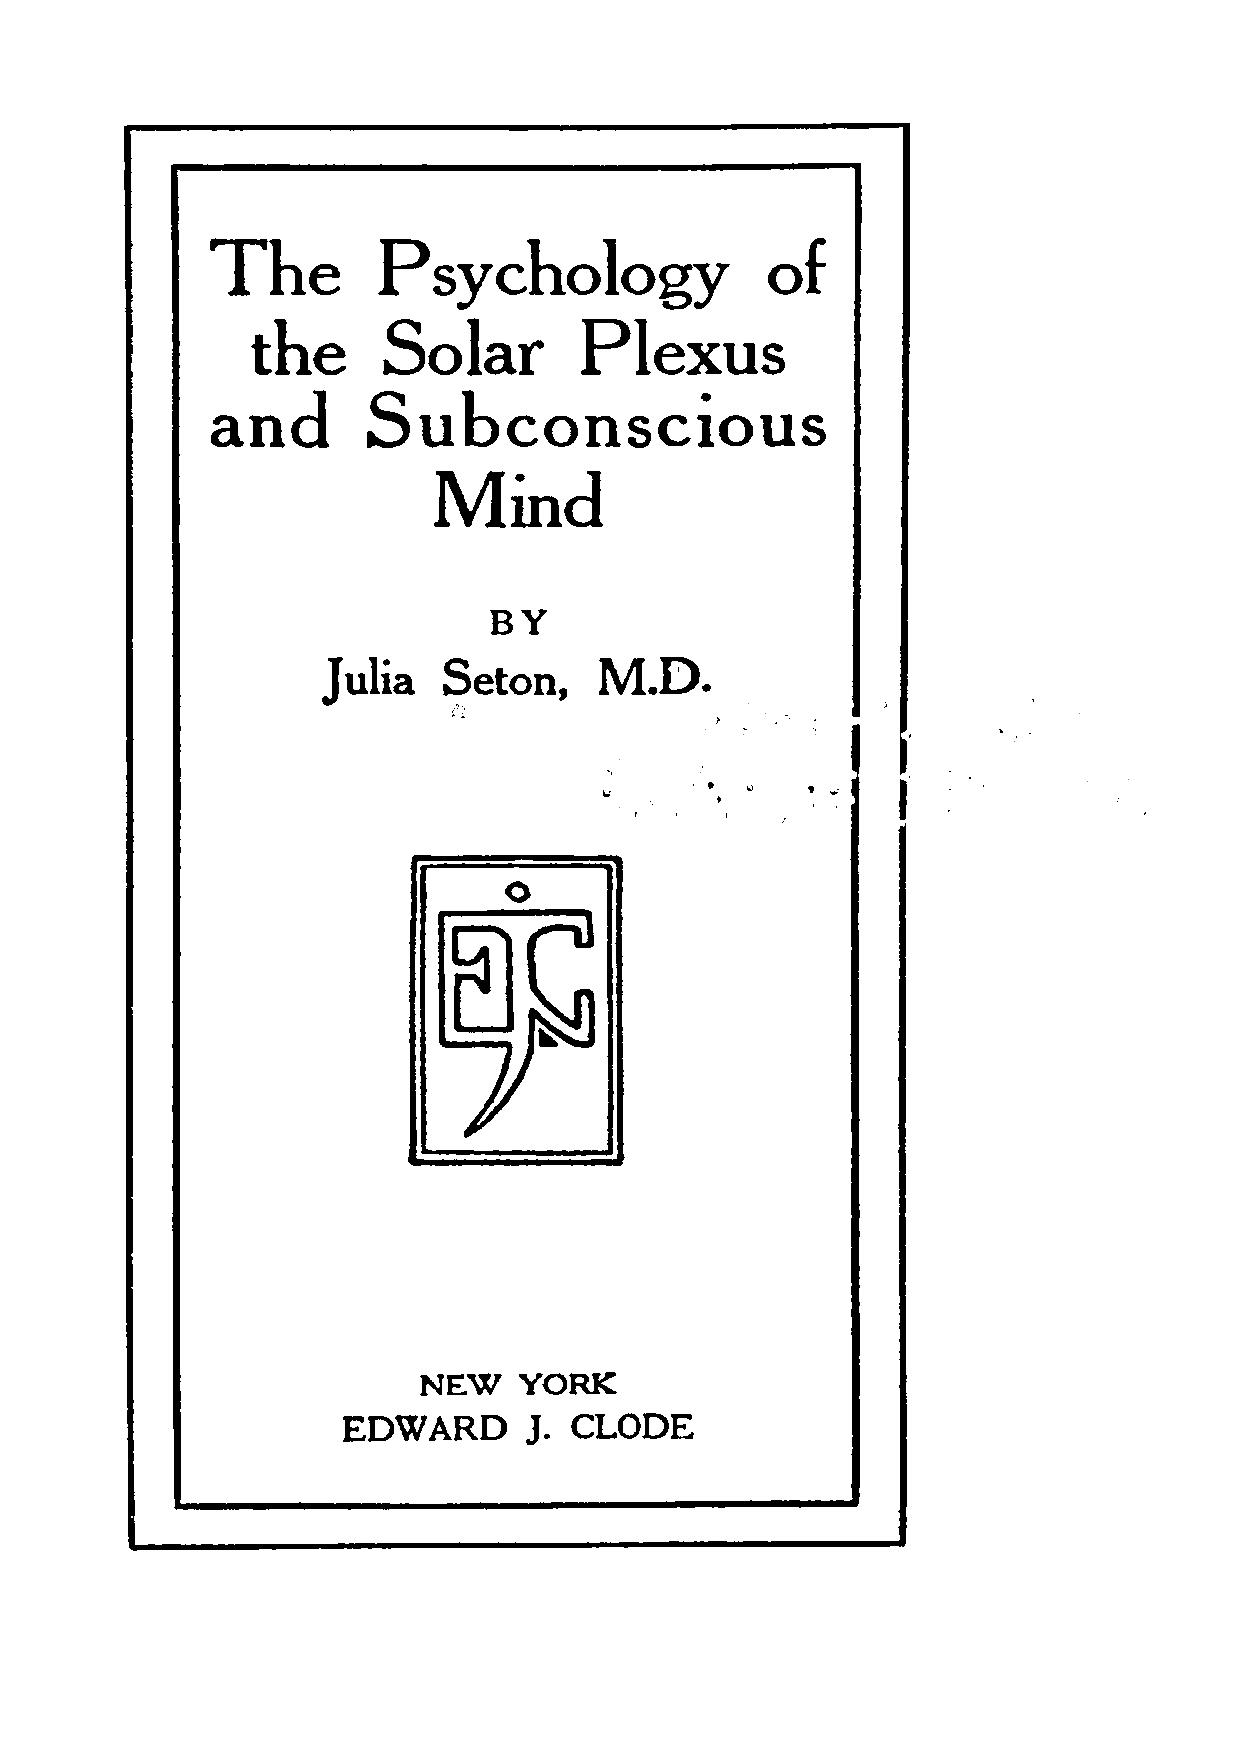author: (318, 605, 713, 707)
title: (205, 234, 827, 530)
